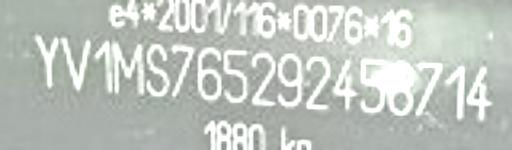letter: (60, 32, 96, 95), (412, 57, 448, 116), (460, 63, 496, 122), (115, 38, 147, 101), (28, 32, 60, 91), (304, 53, 336, 112), (278, 47, 304, 111), (330, 53, 358, 112), (358, 53, 386, 112), (387, 57, 415, 116), (144, 41, 172, 97), (170, 41, 198, 97), (224, 47, 252, 103), (250, 47, 274, 111), (198, 41, 220, 101), (445, 60, 467, 119), (96, 38, 114, 97)
